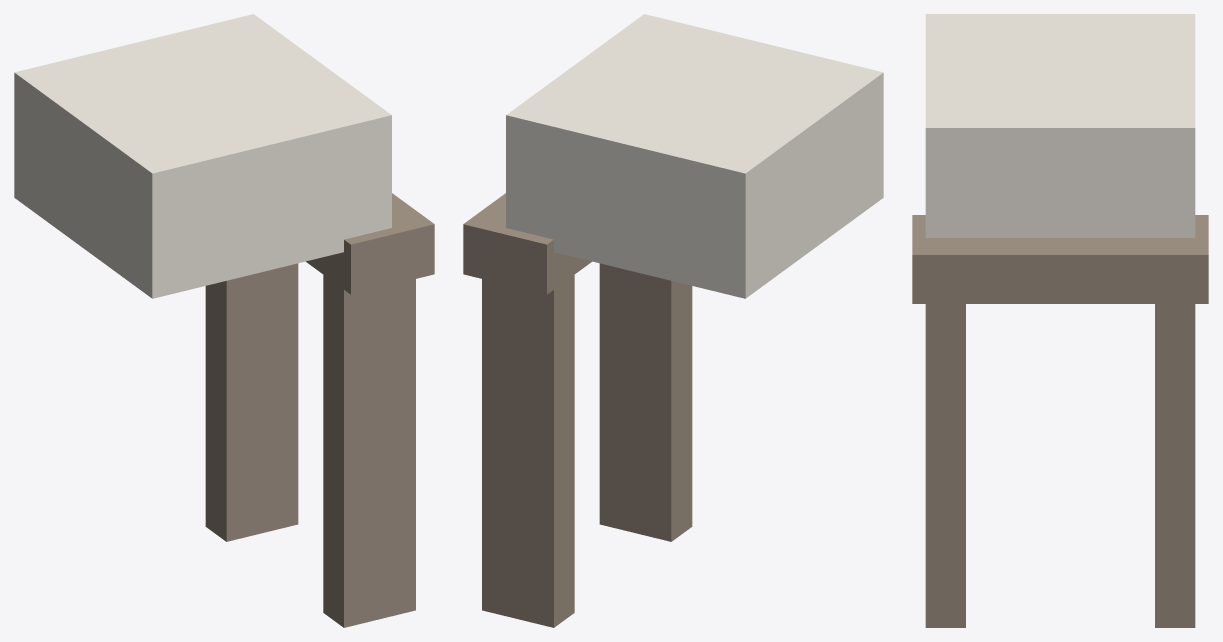
The model's file is Stucco_Doorway_Narrow_Tall.glb.
3 views of the same model, side by side, from view 1: azimuth 30°, elevation 25°; view 2: azimuth 150°, elevation 25°; view 3: azimuth 270°, elevation 25° (orthographic). The views are drawn at different scales.
Visible parts, largest first — view 1: object1, object2; view 2: object1, object2; view 3: object1, object2.
Part boxes in pixels (x1,y1,x2,y2): object1: (14,14,391,298); object2: (205,193,434,627); object1: (506,14,883,298); object2: (463,193,692,627); object1: (925,14,1195,237); object2: (912,215,1208,627).
Size of the model in its own units: 1.15 by 2 by 1.1.
